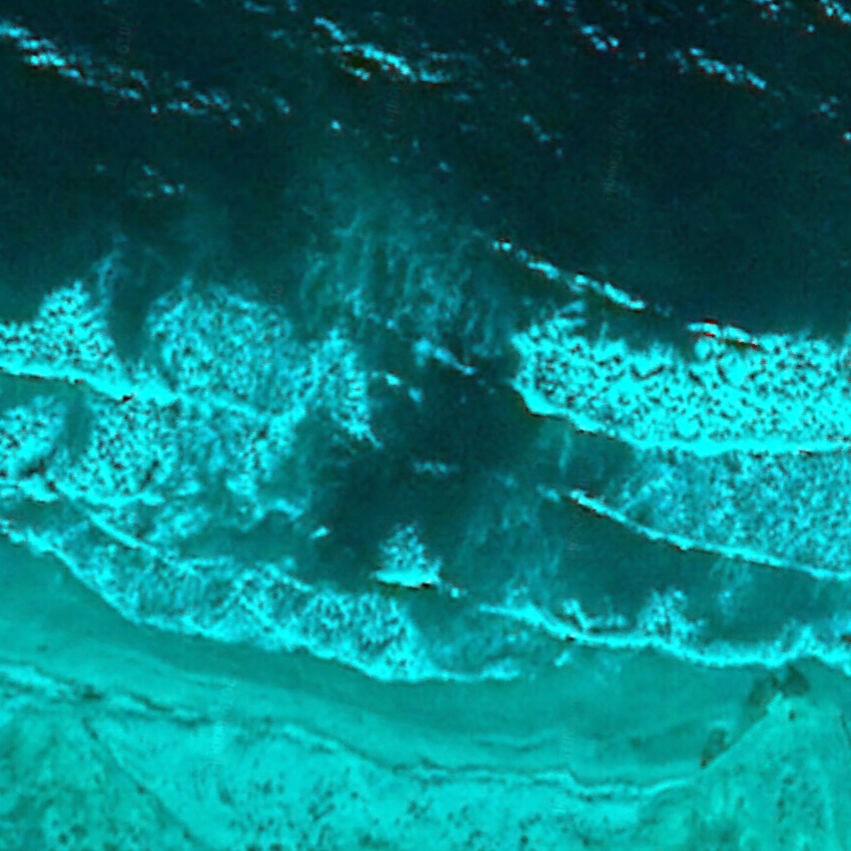rip_current: (287, 146, 578, 628)
